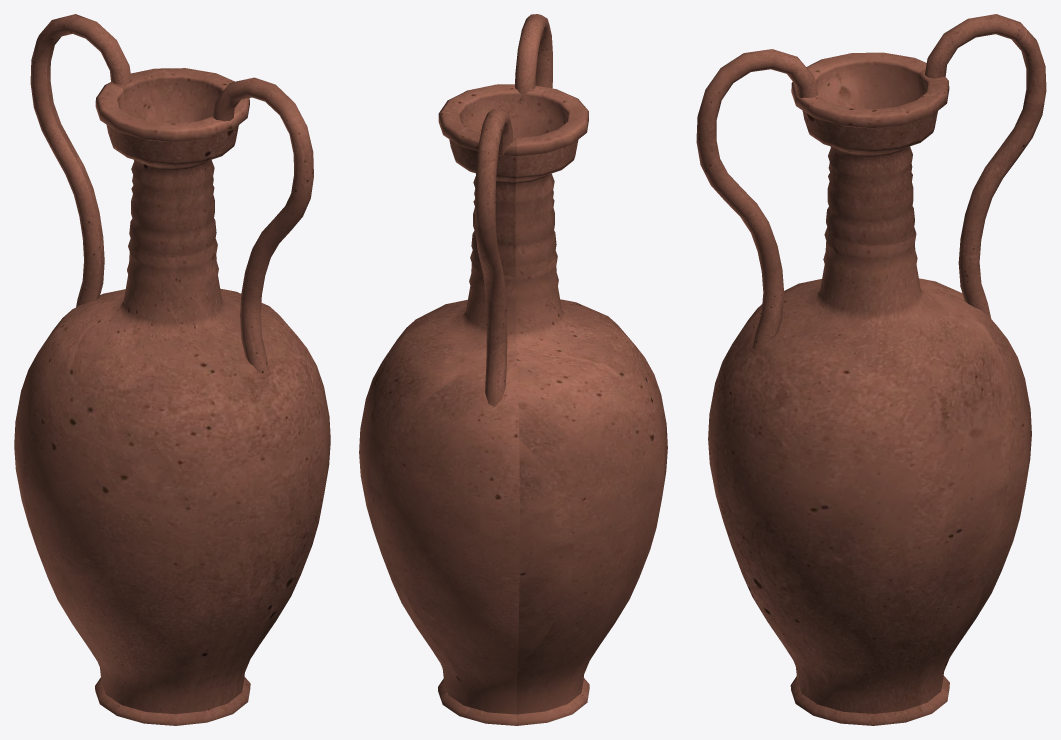
File: Vase_03.glb
3 renders of one model, left to right at view 1: azimuth 30°, elevation 25°; view 2: azimuth 150°, elevation 25°; view 3: azimuth 270°, elevation 25°, orthographic. The views are drawn at different scales.
Parts seen in each view (by area): view 1: SM_Vase_03; view 2: SM_Vase_03; view 3: SM_Vase_03.
Boxes of the visible parts, x1,y1,x2,y2 form: SM_Vase_03: [14, 14, 330, 725]; SM_Vase_03: [359, 14, 667, 725]; SM_Vase_03: [696, 14, 1046, 725].
Bounding box in the file's own units: 0.2514 × 0.5644 × 0.2721.
Materials: 1 (1 with a texture image).
